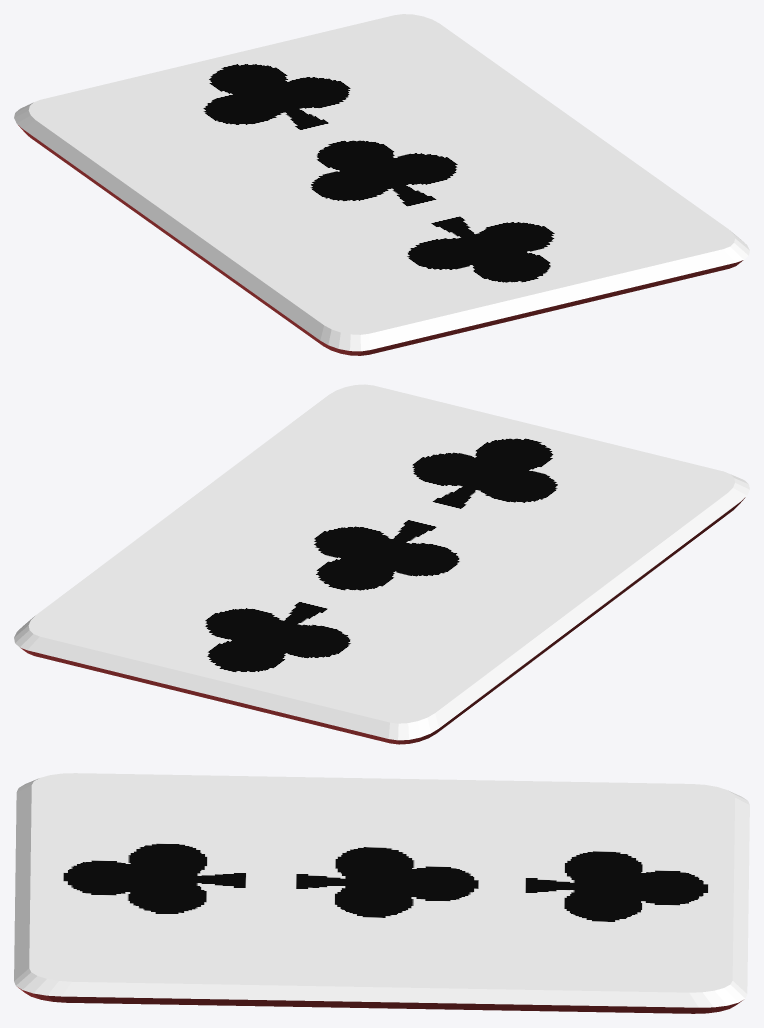
Rendered from Carta.glb.
3 views of the same model, one above another, from view 1: azimuth 30°, elevation 25°; view 2: azimuth 150°, elevation 25°; view 3: azimuth 270°, elevation 25° (orthographic). The views are drawn at different scales.
Parts seen in each view (by area): view 1: Plane; view 2: Plane; view 3: Plane.
Boxes of the visible parts, bbox=[...] form: Plane: bbox=[14, 14, 749, 355]; Plane: bbox=[14, 384, 749, 744]; Plane: bbox=[14, 773, 749, 1013].
Size of the model in its own units: 0.855 by 0.056 by 1.22.
1 material, 1 textured.
